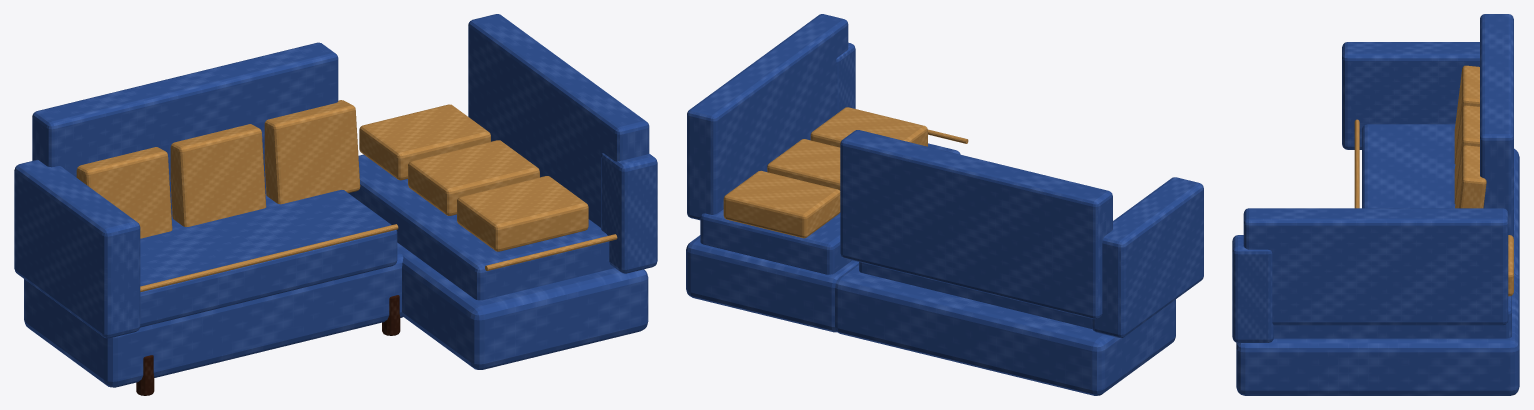
Rendered from sectional-hero-pbr-v1.glb.
3 views of the same model, side by side, from view 1: azimuth 30°, elevation 25°; view 2: azimuth 150°, elevation 25°; view 3: azimuth 270°, elevation 25° (orthographic). The views are drawn at different scales.
Parts seen in each view (by area): view 1: sectional-left-seat, sectional-back-left, sectional-left-base, sectional-back-chaise, sectional-chaise-base, sectional-arm-left, sectional-chaise-seat, back-pillow-2, back-pillow-1, chaise-pillow-0, sectional-arm-right, chaise-pillow-1 (+6 smaller); view 2: sectional-back-left, sectional-left-base, sectional-back-chaise, sectional-arm-left, sectional-chaise-base, chaise-pillow-2, sectional-chaise-seat, chaise-pillow-0, sectional-left-seat, chaise-pillow-1, sectional-arm-right; view 3: sectional-back-chaise, sectional-chaise-base, sectional-arm-left, sectional-left-seat, sectional-back-left, sectional-arm-right, sectional-chaise-seat, back-pillow-2, back-pillow-0, back-pillow-1, sectional-left-base, front-piping-left (+1 smaller).
Part boxes in pixels (x1,y1,x2,y2): sectional-left-seat: (140,190,397,327); sectional-back-left: (32,42,338,216); sectional-left-base: (24,251,403,387); sectional-back-chaise: (468,14,649,227); sectional-chaise-base: (397,242,648,369); sectional-arm-left: (14,160,140,338); sectional-chaise-seat: (348,154,614,300); back-pillow-2: (264,100,360,204); back-pillow-1: (170,124,266,226); chaise-pillow-0: (457,176,588,251); sectional-arm-right: (601,153,657,273); chaise-pillow-1: (408,140,539,215); sectional-back-left: (840,130,1112,319); sectional-left-base: (835,263,1175,395); sectional-back-chaise: (687,14,848,220); sectional-arm-left: (1091,177,1203,337); sectional-chaise-base: (686,235,858,332); chaise-pillow-2: (723,170,840,238); sectional-chaise-seat: (700,143,960,274); chaise-pillow-0: (810,107,927,147); sectional-left-seat: (859,262,1092,328); chaise-pillow-1: (767,139,840,190); sectional-arm-right: (835,42,855,114); sectional-back-chaise: (1243,208,1508,325); sectional-chaise-base: (1236,273,1519,395); sectional-arm-left: (1342,42,1479,149); sectional-left-seat: (1362,124,1455,208); sectional-back-left: (1480,14,1513,238); sectional-arm-right: (1232,235,1273,342); sectional-chaise-seat: (1273,296,1511,338); back-pillow-2: (1455,145,1486,208); back-pillow-0: (1454,65,1479,163); back-pillow-1: (1454,105,1479,203); sectional-left-base: (1514,148,1519,280); front-piping-left: (1354,119,1359,208).
Bounding box in the file's own units: 2.62 × 1.17 × 1.52.
3 materials, 3 textured.
